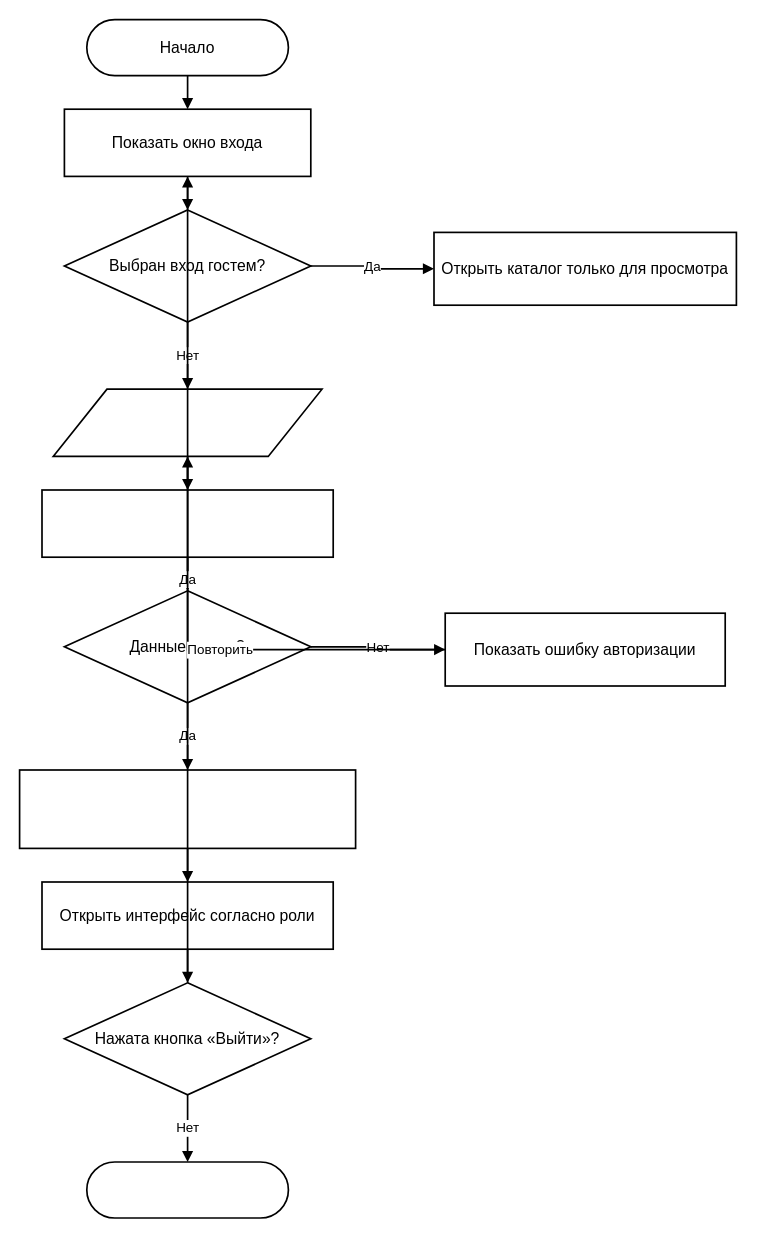
Some shapes in this 757 by 1239 pixel diagram are drawn without their labels. The box of each missing label's shape, as (x1, y1, x2, y2) in pixels:
Ввести логин и пароль: (52, 388, 322, 457)
Конец: (85, 1161, 289, 1218)
Определить роль и показать ФИО пользователя: (18, 769, 356, 849)
Проверить логин и пароль в БД: (41, 489, 334, 558)
